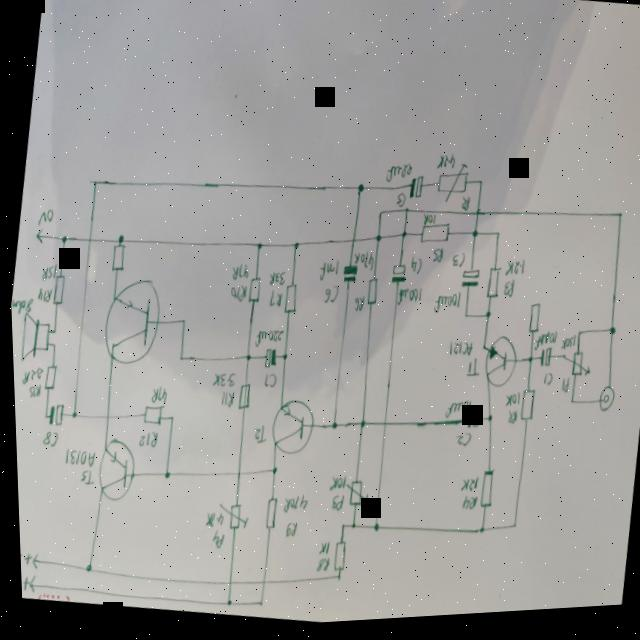capacitor: (457, 271, 480, 297), (43, 402, 62, 429), (405, 178, 423, 206), (338, 266, 357, 289), (259, 349, 277, 373), (387, 268, 406, 290), (534, 352, 550, 375), (463, 415, 477, 435)
crossover: (229, 471, 239, 481), (346, 239, 355, 250), (377, 422, 385, 434), (100, 412, 108, 423), (473, 213, 480, 225), (255, 579, 262, 589), (85, 237, 92, 246), (221, 580, 228, 589)
junction: (366, 524, 377, 538), (353, 186, 363, 201), (79, 563, 89, 576), (523, 359, 532, 373), (66, 409, 76, 421), (266, 468, 275, 479), (114, 234, 123, 245), (398, 233, 406, 245), (482, 418, 490, 430), (469, 234, 477, 245), (58, 235, 66, 246), (253, 244, 261, 255), (160, 471, 167, 483), (356, 423, 363, 435), (290, 244, 298, 254), (327, 424, 334, 435), (242, 355, 249, 366), (607, 333, 614, 344), (221, 600, 228, 611), (482, 315, 489, 326), (459, 317, 467, 326), (373, 238, 380, 248), (278, 356, 285, 366), (474, 531, 481, 541), (615, 218, 622, 228), (90, 179, 97, 189), (49, 327, 56, 337), (38, 411, 45, 421), (566, 404, 573, 413), (48, 342, 55, 351), (335, 526, 342, 535), (401, 211, 408, 220), (331, 578, 338, 587), (508, 527, 514, 537), (253, 602, 259, 612), (346, 526, 352, 535), (178, 319, 184, 328), (175, 357, 181, 366), (493, 236, 499, 245), (476, 185, 482, 192), (574, 336, 579, 344), (166, 417, 171, 423), (377, 215, 382, 221)
resistor: (433, 167, 469, 212), (211, 503, 247, 536), (556, 354, 591, 387), (417, 223, 449, 253), (338, 482, 368, 514), (473, 474, 493, 516), (521, 301, 541, 341), (481, 270, 501, 308), (515, 393, 535, 430), (138, 403, 163, 431), (326, 542, 344, 578), (258, 499, 276, 535), (280, 285, 297, 319), (107, 244, 125, 275), (49, 273, 64, 308), (40, 362, 56, 394), (244, 278, 261, 308), (233, 385, 250, 415), (363, 280, 378, 312)
terminal: (593, 391, 614, 422), (26, 552, 36, 572), (32, 228, 43, 245), (23, 575, 32, 594)
text: (60, 446, 93, 472), (429, 295, 460, 322), (439, 401, 469, 428), (277, 494, 306, 519), (393, 289, 422, 314), (383, 166, 413, 190), (251, 329, 282, 352), (444, 342, 471, 364), (531, 336, 557, 358), (17, 365, 41, 387), (316, 262, 338, 286), (224, 284, 246, 307), (501, 263, 524, 285), (208, 373, 233, 393), (33, 207, 54, 230), (350, 255, 373, 276), (145, 386, 166, 409), (134, 431, 156, 452), (9, 295, 30, 317), (204, 531, 223, 555), (214, 391, 232, 416), (228, 264, 248, 285), (456, 479, 476, 500), (201, 513, 222, 533), (38, 262, 56, 285), (461, 361, 479, 384), (264, 291, 280, 316), (435, 158, 455, 178), (323, 495, 340, 518), (320, 289, 337, 312), (347, 296, 363, 320), (450, 435, 469, 454), (447, 256, 465, 276), (456, 498, 474, 518), (498, 283, 514, 305), (38, 431, 56, 450), (265, 273, 284, 291), (325, 478, 343, 497), (279, 523, 295, 544), (249, 427, 264, 449), (556, 341, 574, 359), (500, 397, 517, 416), (75, 469, 91, 489), (34, 286, 50, 305), (406, 261, 421, 281), (16, 548, 29, 571), (310, 560, 326, 578), (260, 375, 275, 394), (24, 383, 39, 400), (417, 217, 435, 231), (555, 382, 568, 401), (501, 414, 513, 434), (538, 376, 550, 396), (457, 201, 469, 220), (17, 570, 26, 595), (429, 253, 442, 270), (393, 196, 405, 213), (313, 545, 326, 560)
transistor: (95, 273, 165, 374), (89, 437, 137, 509), (264, 398, 315, 463), (474, 337, 518, 397)
